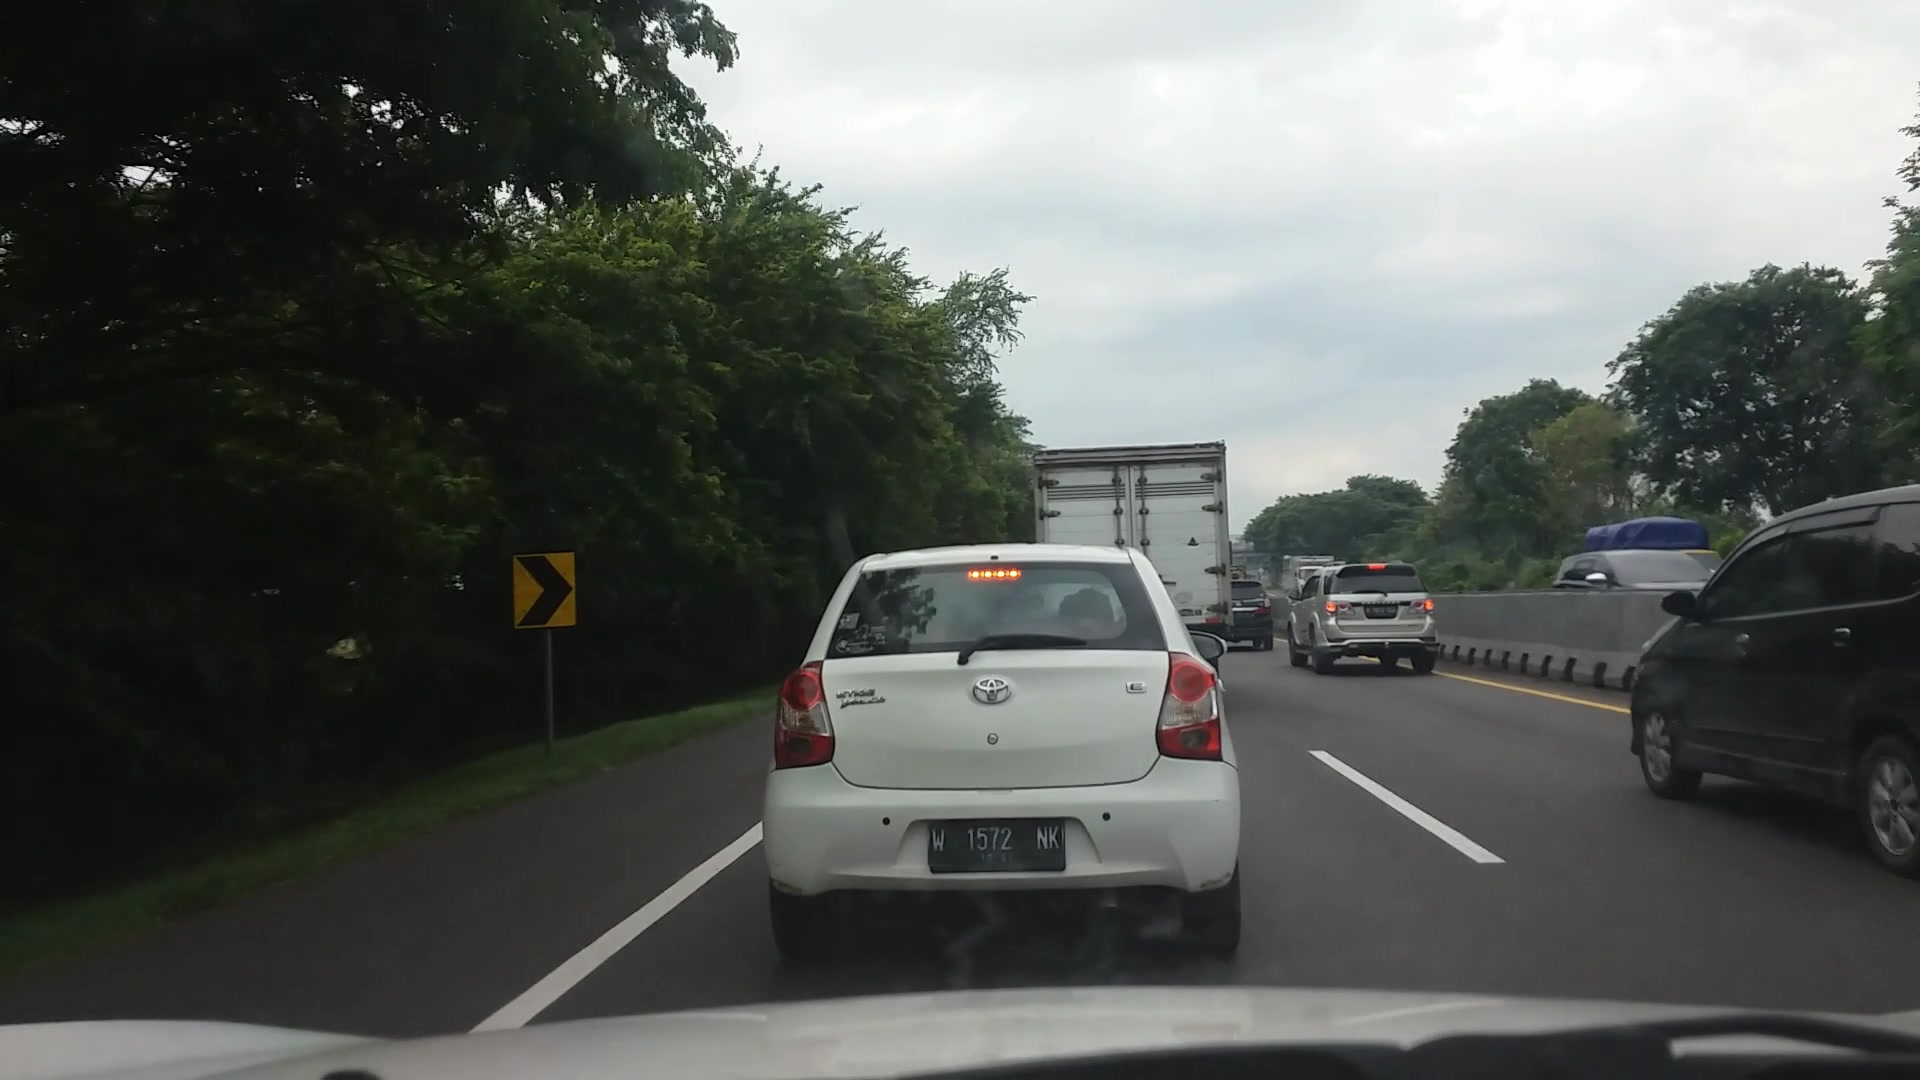plate_positive: (927, 818, 1065, 874)
